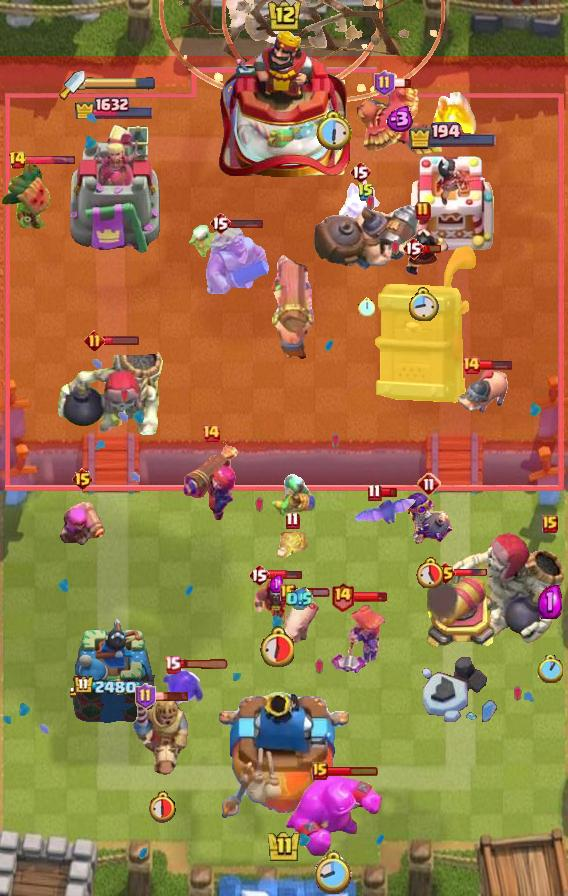bar: (67, 122, 161, 256)
barbarian: (355, 497, 419, 527)
battle-healer: (268, 247, 316, 361)
bowler: (253, 577, 299, 627)
clone: (285, 773, 383, 859)
dart-goblin: (374, 245, 478, 403)
electro-giant: (446, 533, 568, 645), (54, 341, 166, 451)
electro-spirit: (538, 585, 562, 619), (383, 106, 413, 132), (287, 587, 313, 611), (269, 575, 282, 593)
elixir: (315, 850, 353, 896), (314, 109, 352, 150), (258, 625, 293, 666), (409, 287, 439, 321), (146, 790, 176, 823), (416, 557, 443, 588), (537, 655, 563, 683), (357, 297, 375, 317)
emote: (325, 765, 378, 777), (24, 154, 76, 165), (178, 658, 230, 669), (294, 587, 331, 599), (154, 690, 191, 702), (228, 217, 264, 229), (268, 569, 304, 581), (352, 591, 388, 603), (104, 334, 141, 345), (479, 359, 512, 371), (454, 568, 488, 578), (392, 77, 412, 89), (422, 243, 442, 254), (379, 486, 398, 497)
executioner: (458, 366, 514, 414)
giant: (276, 595, 322, 647)
giant-snowball: (269, 473, 319, 517)
goblin-ball: (404, 491, 454, 545)
goblin-barrel: (0, 161, 58, 231)
goblin-hut: (201, 225, 271, 299)
guard: (222, 0, 446, 102), (159, 0, 383, 98)
heal-spirit: (189, 225, 221, 257)
ice-spirit-evolution: (274, 528, 310, 560)
king-tower: (218, 27, 350, 181), (219, 692, 349, 826)
king-tower-bar: (85, 77, 155, 91)
lumberjack: (396, 226, 450, 278)
mega-minion: (181, 442, 241, 522)
mirror: (338, 176, 382, 230)
mother-witch: (350, 84, 446, 160)
queen-tower: (70, 616, 158, 731), (407, 150, 499, 256)
ram-rider: (131, 692, 191, 780)
royal-recruit: (424, 578, 496, 652)
selected: (408, 122, 498, 150), (73, 94, 154, 119), (73, 675, 155, 697)
spear-goblin: (161, 667, 203, 707)
tesla-evolution: (330, 602, 390, 682)
text: (330, 581, 355, 612), (417, 472, 441, 496), (70, 467, 93, 491), (434, 561, 457, 585), (373, 70, 394, 96), (135, 683, 156, 709), (349, 160, 371, 184), (209, 211, 231, 235), (402, 236, 424, 260), (248, 563, 270, 587), (83, 329, 105, 350), (8, 150, 28, 170), (461, 355, 481, 375), (201, 423, 221, 443), (357, 182, 375, 202), (163, 654, 181, 673), (415, 201, 431, 221), (542, 515, 558, 533), (280, 584, 296, 602), (312, 762, 328, 780), (367, 483, 382, 501), (285, 511, 300, 529)
tombstone: (58, 495, 106, 549)
valkyrie: (428, 84, 478, 150)
wizard: (310, 202, 422, 272)
